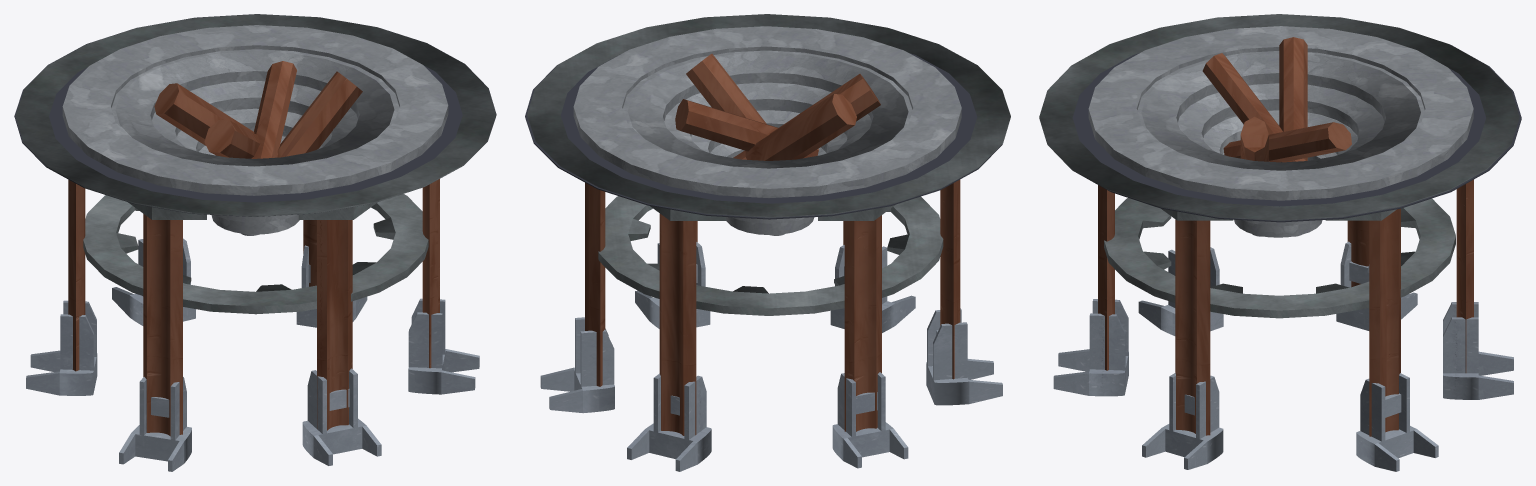
Rendered from Brazier_1.obj.
3 views of the same model, side by side, from view 1: azimuth 30°, elevation 25°; view 2: azimuth 150°, elevation 25°; view 3: azimuth 270°, elevation 25° (orthographic).
Visible parts, largest first — view 1: pipe_large, cylinderHollow_quarter, pipe_largeExhaust, bumper_large, turbine_ring%, ring_inner, cylinderVertex, hexagon_archesHalf; view 2: pipe_large, cylinderHollow_quarter, pipe_largeExhaust, bumper_large, turbine_ring%, ring_inner, cylinderVertex, hexagon_archesHalf; view 3: pipe_large, bumper_large, pipe_largeExhaust, turbine_ring%, cylinderHollow_quarter, ring_inner, cylinderVertex, hexagon_archesHalf.
Boxes of the visible parts, box(x1,y1,x2,y2) form: pipe_large: box(14, 14, 496, 216); cylinderHollow_quarter: box(68, 179, 439, 436); pipe_largeExhaust: box(15, 14, 496, 216); bumper_large: box(26, 238, 479, 471); turbine_ring%: box(111, 49, 399, 234); ring_inner: box(83, 194, 428, 314); cylinderVertex: box(154, 61, 362, 158); hexagon_archesHalf: box(128, 202, 377, 219); pipe_large: box(525, 26, 1002, 219); cylinderHollow_quarter: box(585, 179, 960, 435); pipe_largeExhaust: box(527, 14, 1010, 217); bumper_large: box(540, 242, 1002, 471); turbine_ring%: box(623, 50, 912, 234); ring_inner: box(598, 196, 943, 315); cylinderVertex: box(675, 53, 880, 160); hexagon_archesHalf: box(650, 204, 895, 220); pipe_large: box(1072, 26, 1521, 222); bumper_large: box(1053, 241, 1513, 471); pipe_largeExhaust: box(1039, 14, 1519, 220); turbine_ring%: box(1137, 51, 1424, 237); cylinderHollow_quarter: box(1098, 179, 1473, 436); ring_inner: box(1104, 198, 1455, 318); cylinderVertex: box(1202, 37, 1351, 162); hexagon_archesHalf: box(1161, 208, 1396, 220).
Size of the model in its own units: 1.38 by 1 by 1.37.
6 materials, 4 textured.
